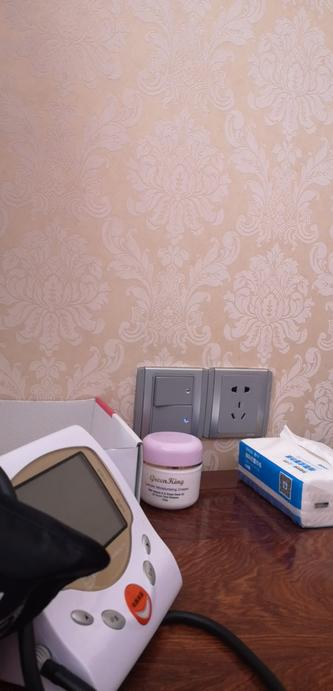switch: (148, 370, 199, 407), (145, 402, 201, 433)
